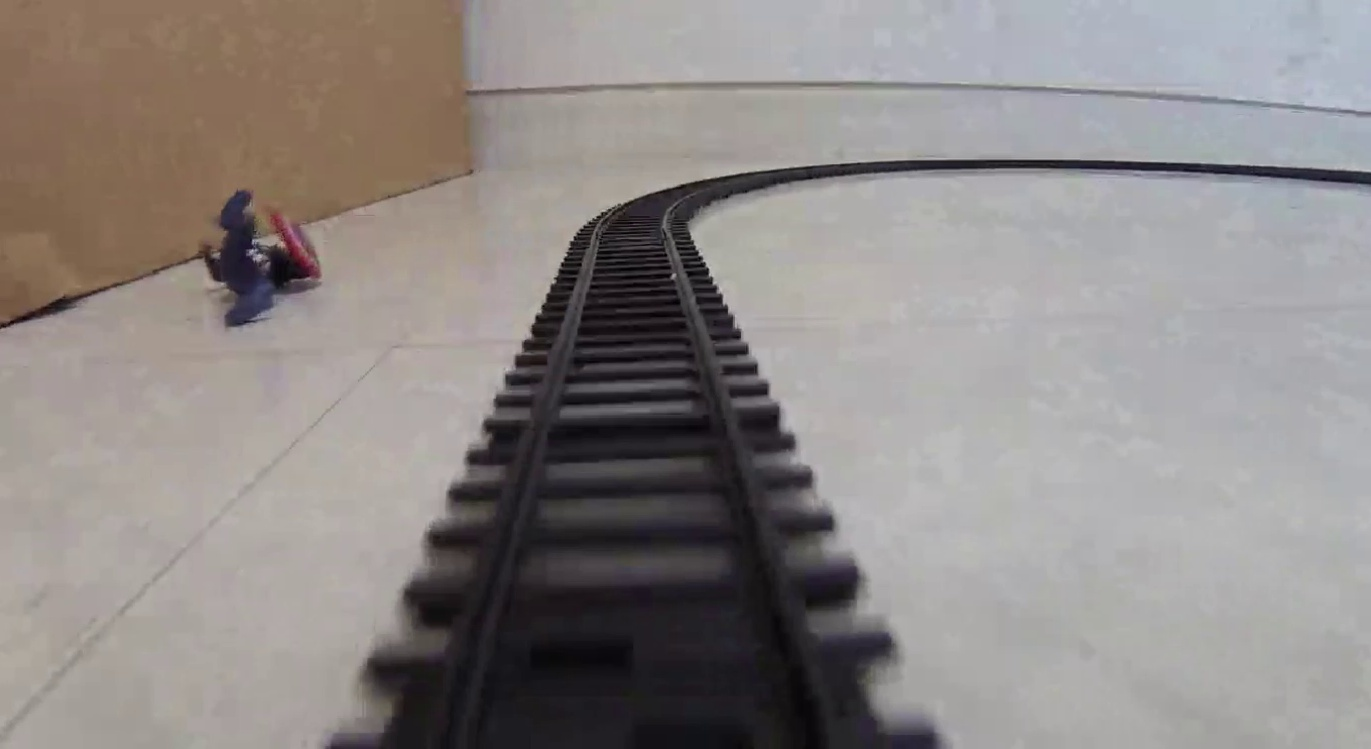people: (200, 191, 322, 328)
